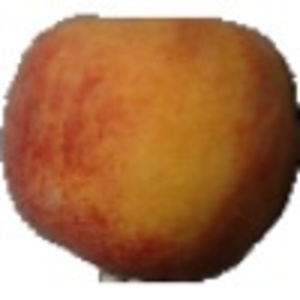pêssego: (1, 13, 300, 286)
